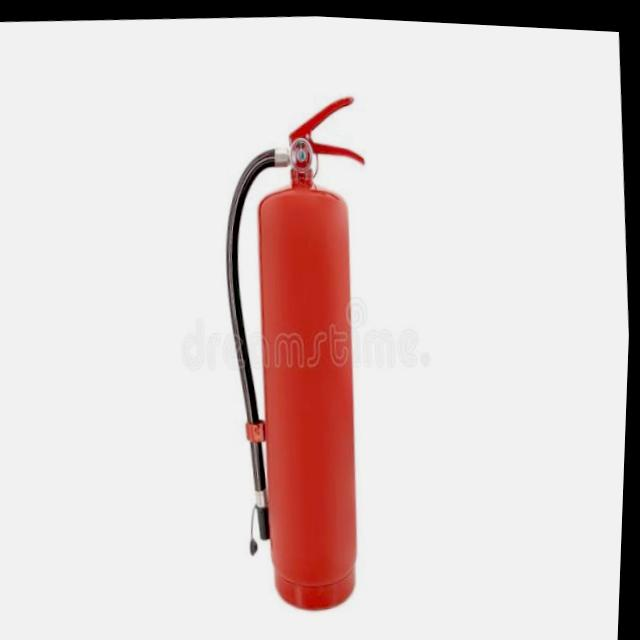FireExtinguisher: (202, 81, 402, 622)
